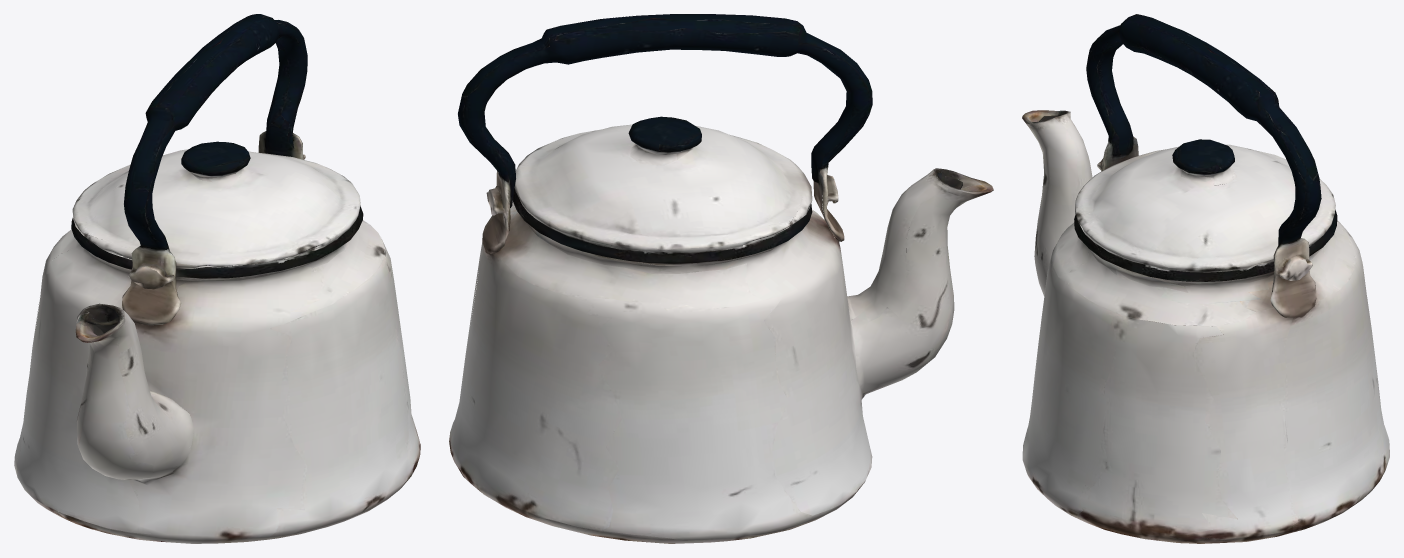
Rendered from tetera.glb.
3 views of the same model, side by side, from view 1: azimuth 30°, elevation 25°; view 2: azimuth 150°, elevation 25°; view 3: azimuth 270°, elevation 25° (orthographic). The views are drawn at different scales.
Visible parts, largest first — view 1: geometry_0; view 2: geometry_0; view 3: geometry_0.
Part boxes in pixels (x1=…): geometry_0: x1=14, y1=14, x2=420, y2=543; geometry_0: x1=449, y1=14, x2=993, y2=543; geometry_0: x1=1022, y1=14, x2=1389, y2=543.
Size of the model in its own units: 0.2 by 0.2 by 0.16.
Materials: 1 (1 with a texture image).
